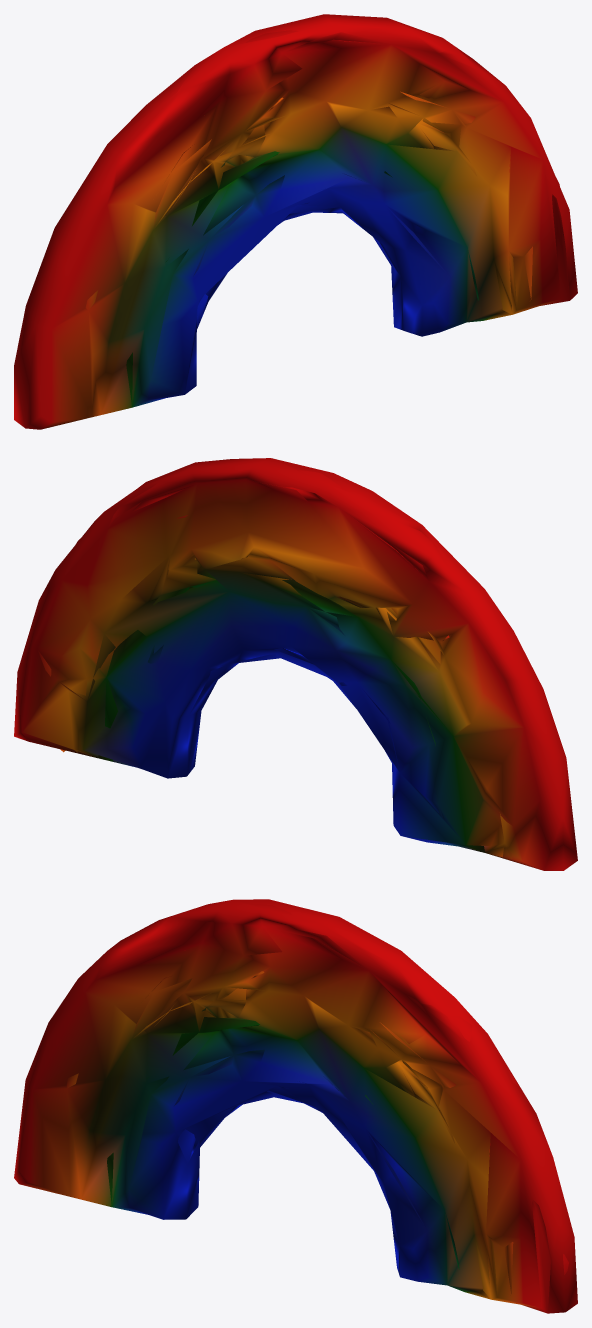
The model's file is gen3d-rainbow-lod1.glb.
The picture shows the model from 3 angles, top to bottom: view 1: azimuth 30°, elevation 25°; view 2: azimuth 150°, elevation 25°; view 3: azimuth 330°, elevation 25°; orthographic projection.
Parts seen in each view (by area): view 1: part_0; view 2: part_0; view 3: part_0.
Boxes of the visible parts, x1,y1,x2,y2 form: part_0: (14,14,577,429); part_0: (14,458,577,870); part_0: (14,899,577,1313).
Bounding box in the file's own units: 1.74 × 0.9938 × 0.1309.
